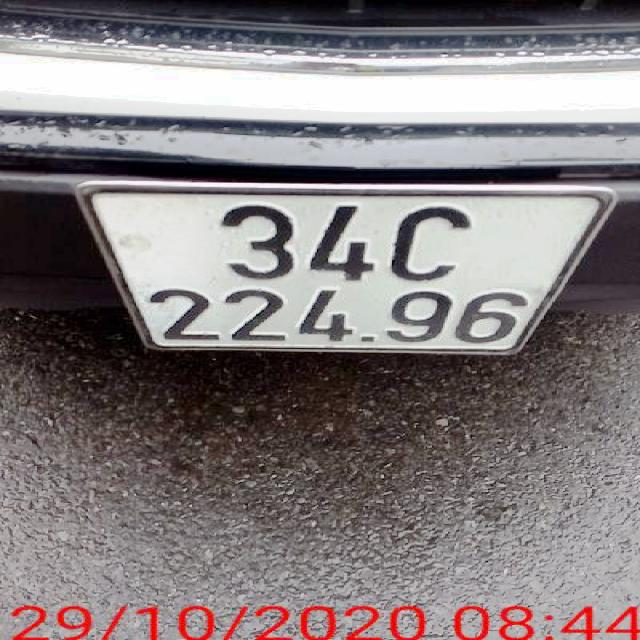license_plate: (87, 187, 615, 358)
